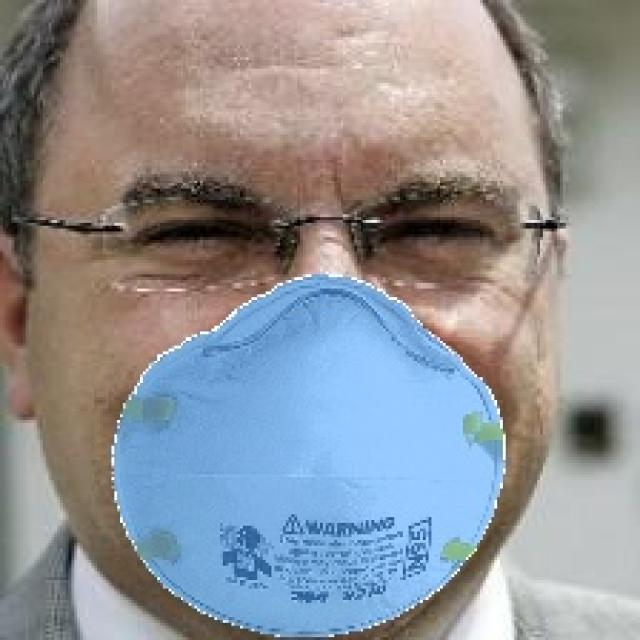mask: (78, 235, 559, 640)
